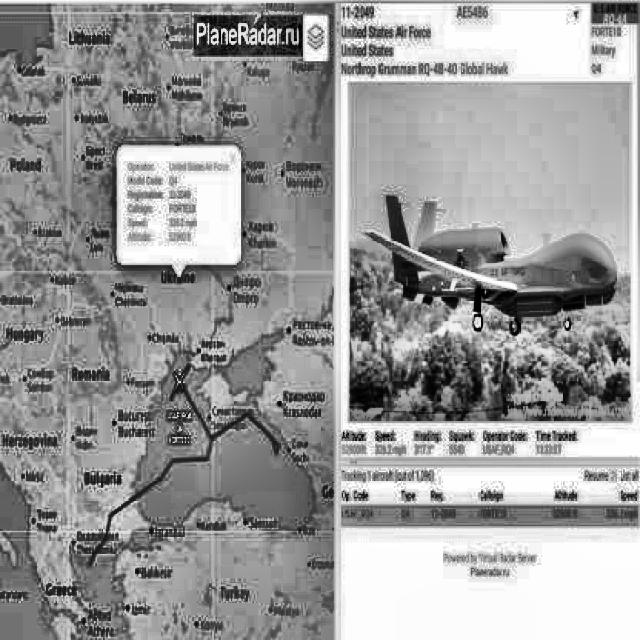RQ4: (360, 193, 618, 336)
